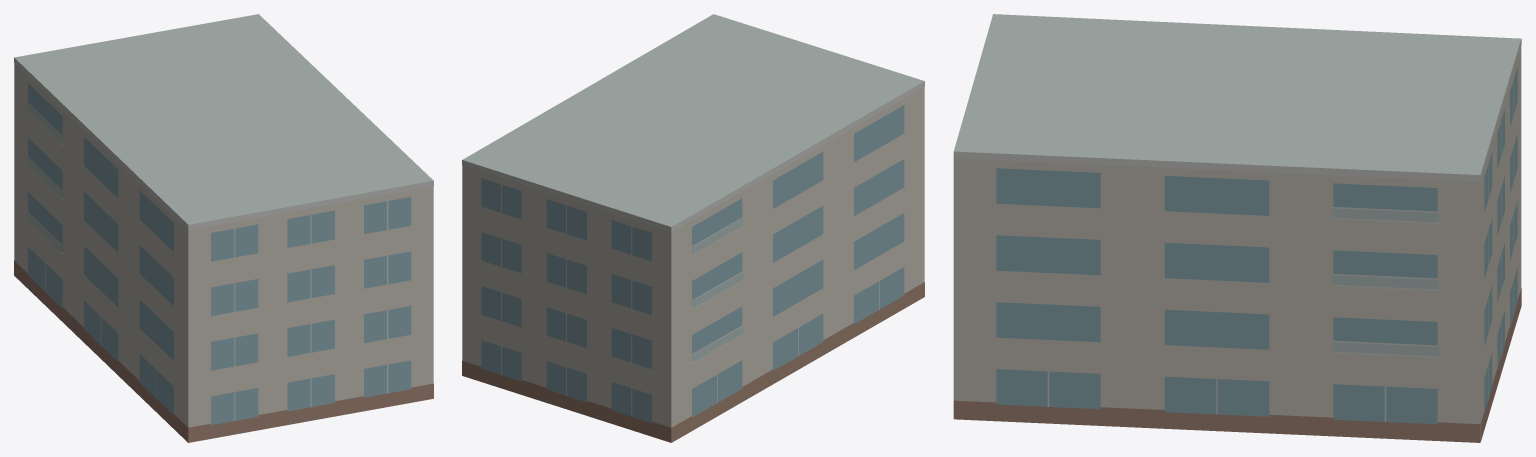
Rendered from survey-upis-32907674.glb.
The picture shows the model from 3 angles, left to right: view 1: azimuth 30°, elevation 25°; view 2: azimuth 150°, elevation 25°; view 3: azimuth 270°, elevation 25°; orthographic projection. The views are drawn at different scales.
Visible parts, largest first — view 1: survey-upis-32907674.tmp; view 2: survey-upis-32907674.tmp; view 3: survey-upis-32907674.tmp.
Boxes of the visible parts, x1,y1,x2,y2 form: survey-upis-32907674.tmp: [14, 14, 433, 442]; survey-upis-32907674.tmp: [462, 14, 924, 442]; survey-upis-32907674.tmp: [953, 14, 1521, 442].
Bounding box in the file's own units: 12.41 × 9.61 × 18.47.
